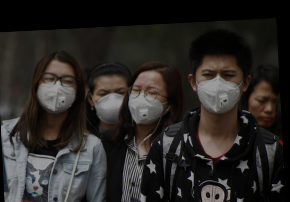with_mask: (195, 63, 245, 115), (35, 70, 78, 113), (127, 80, 169, 123), (91, 83, 130, 125)
without_mask: (248, 91, 280, 129)
